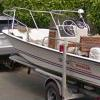Boat: (3, 6, 100, 92)
